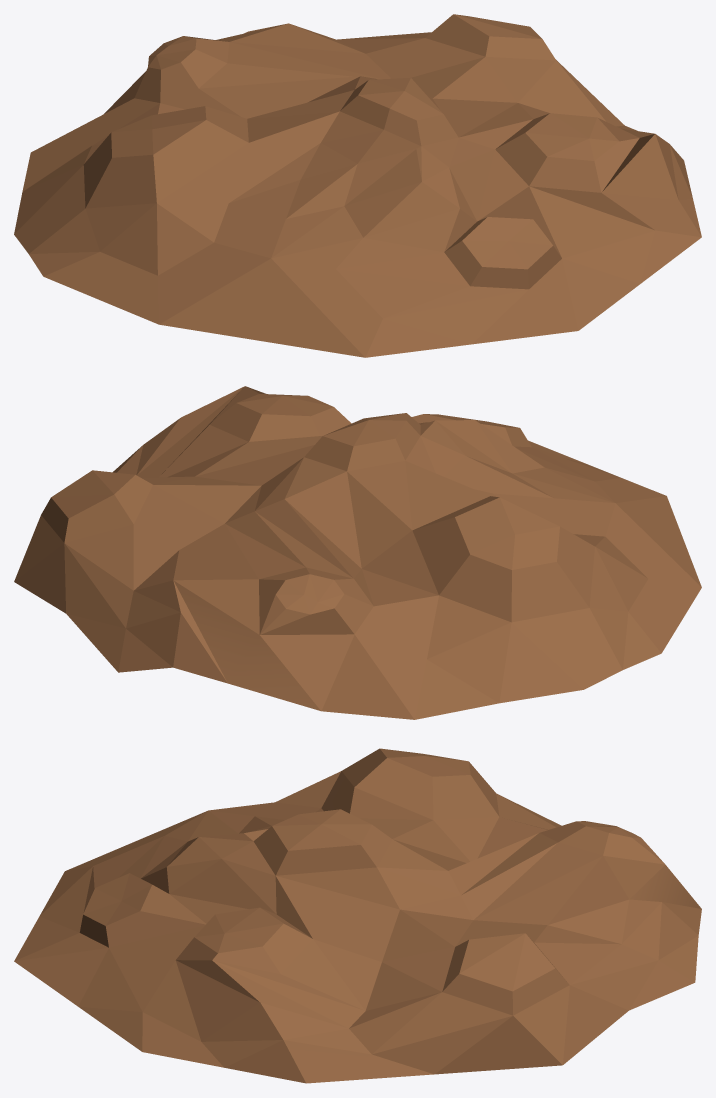
File: soil_pile.fbx
The picture shows the model from 3 angles, top to bottom: view 1: azimuth 30°, elevation 25°; view 2: azimuth 150°, elevation 25°; view 3: azimuth 270°, elevation 25°; orthographic projection.
Visible parts, largest first — view 1: Ash_low; view 2: Ash_low; view 3: Ash_low.
Boxes of the visible parts, x1,y1,x2,y2 form: Ash_low: [14, 14, 701, 357]; Ash_low: [14, 386, 701, 719]; Ash_low: [14, 748, 701, 1083].
Size of the model in its own units: 26.89 by 5.71 by 27.1.
